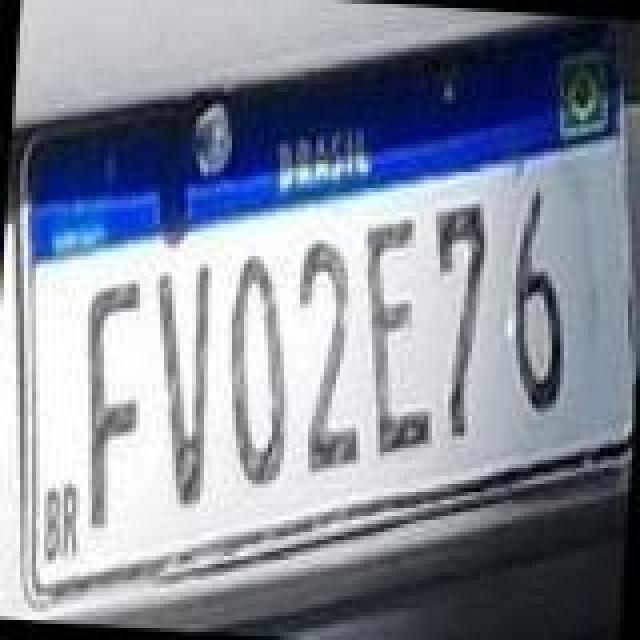2: (282, 238, 374, 482)
6: (504, 192, 576, 416)
7: (420, 200, 492, 440)
E: (352, 210, 448, 462)
F: (74, 276, 150, 532)
O: (218, 252, 302, 492)
V: (142, 260, 218, 508)
